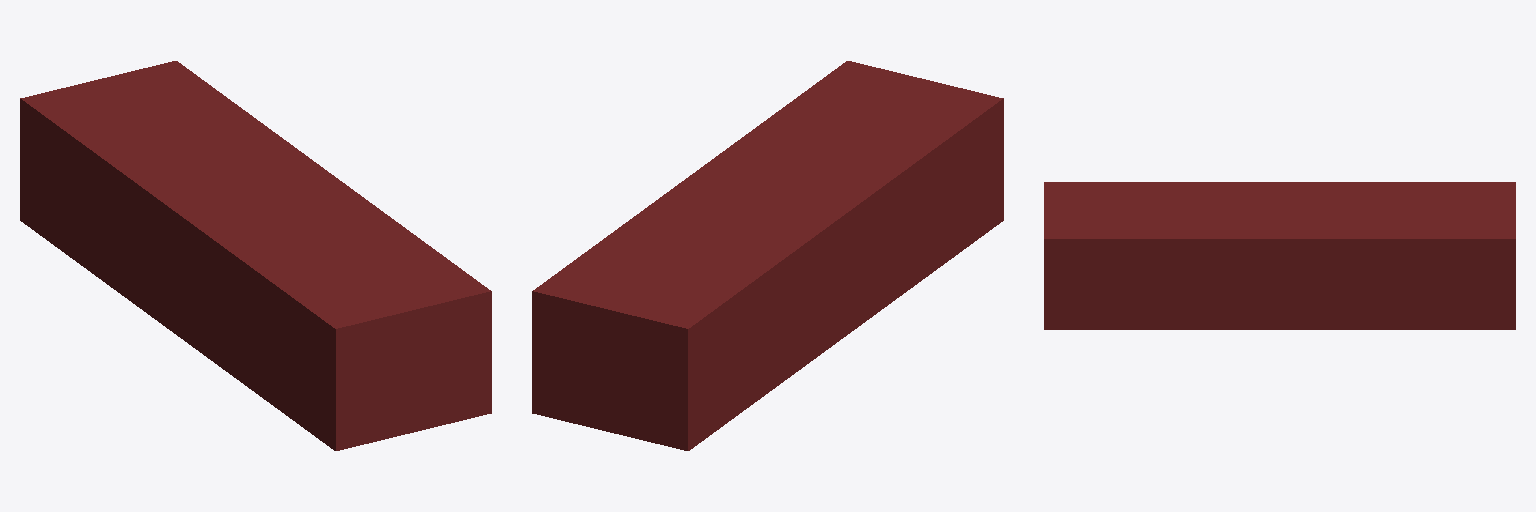
robot.urdf — box:
<?xml version="1.0" encoding="utf-8"?>
<!-- =================================================================================== -->
<!-- |    This document was autogenerated by xacro from box.urdf.xacro                 | -->
<!-- |    EDITING THIS FILE BY HAND IS NOT RECOMMENDED                                 | -->
<!-- =================================================================================== -->
<robot name="box">
  <!-- Base link -->
  <link name="obj_base">
    <origin xyz="0 0 0"/>
  </link>
  <joint name="base_joint" type="revolute">
    <limit effort="15" lower="-0.47" upper="0.47" velocity="7"/>
    <parent link="obj_base"/>
    <child link="object_link"/>
    <origin xyz="0 0 0"/>
  </joint>
  <!-- object link -->
  <link name="object_link">
    <visual>
      <geometry>
        <box size="0.04 0.14 0.03"/>
      </geometry>
      <origin rpy="0 0 0" xyz="0.1 -0.02 0.105"/>
      <material name="red">
        <color rgba="0.5 0.2 0.2 0.7"/>
      </material>
    </visual>
    <collision>
      <geometry>
        <box size="0.04 0.14 0.03"/>
      </geometry>
    </collision>
  </link>
</robot>

--- What the picture shows (computed from the rendered views, not written in the file) ---
The picture shows the robot from 3 angles, left to right: view 1: azimuth 30°, elevation 25°; view 2: azimuth 150°, elevation 25°; view 3: azimuth 270°, elevation 25°; orthographic projection.
Model box with 2 links and 1 joints (1 revolute), rooted at obj_base, posed every joint at zero.
Visible links, largest first — view 1: object_link; view 2: object_link; view 3: object_link.
Link boxes in pixels (<box>): object_link: <box>20,61,491,450</box>; object_link: <box>532,61,1003,450</box>; object_link: <box>1044,182,1515,329</box>.
Bounding box of the posed robot: 0.04 × 0.14 × 0.03 m (x, y, z).
Geometry: primitives only (box / cylinder / sphere), no mesh files.